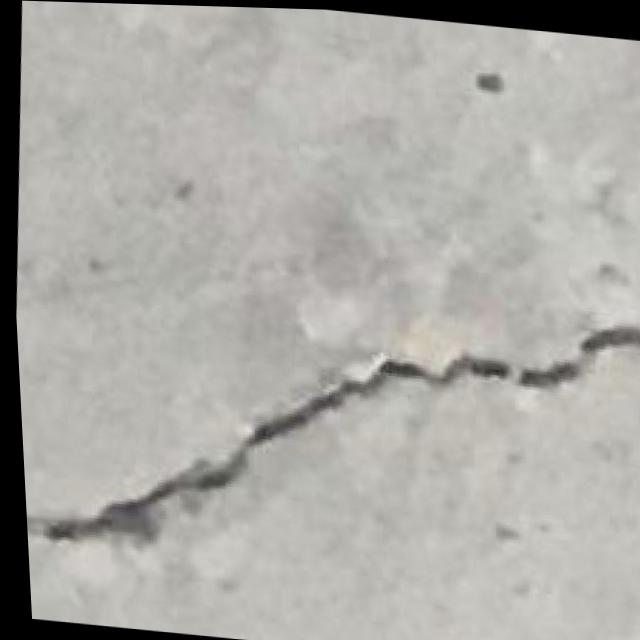Crack: (10, 251, 640, 606)
